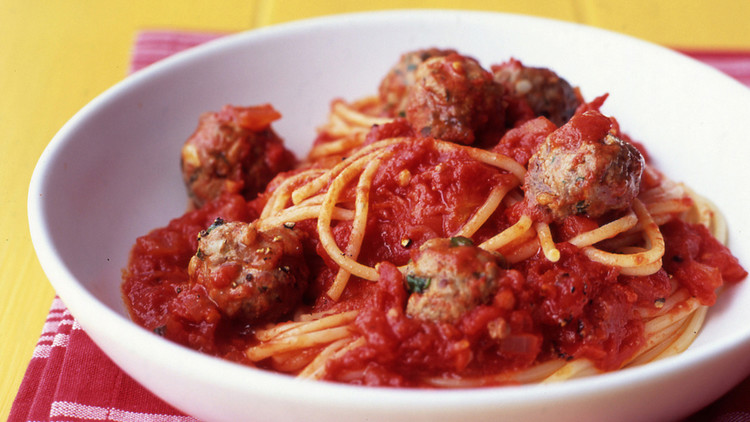meatballs: (512, 97, 646, 225)
